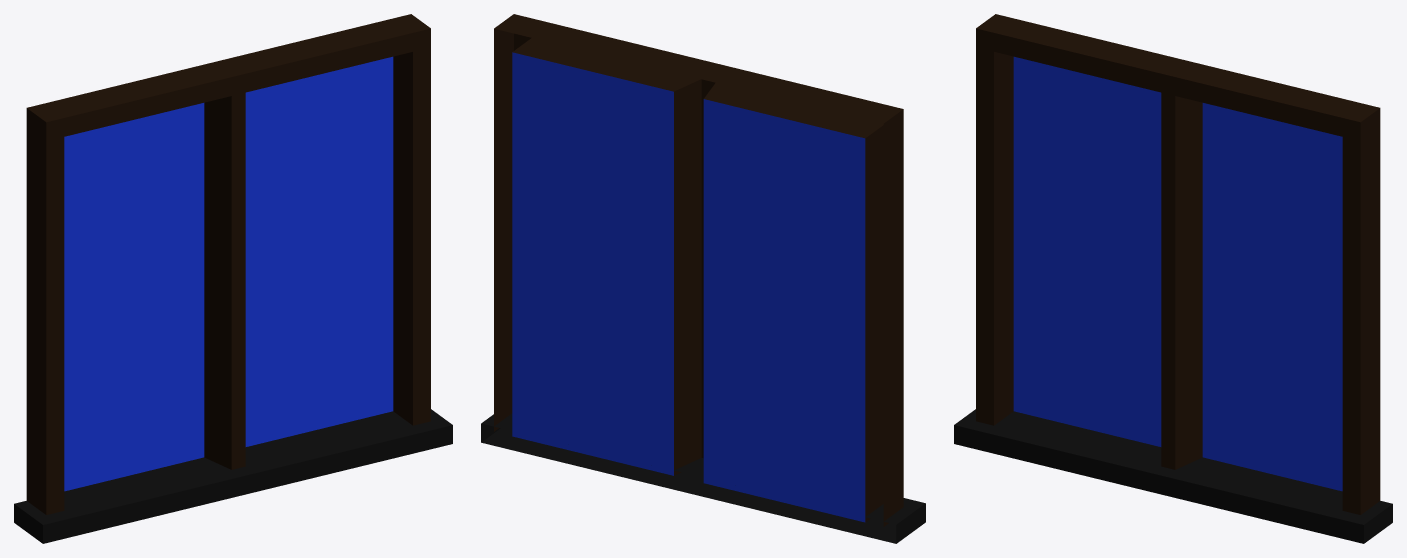
Rendered from Finestra4.FBX.
The picture shows the model from 3 angles, left to right: view 1: azimuth 30°, elevation 25°; view 2: azimuth 150°, elevation 25°; view 3: azimuth 330°, elevation 25°; orthographic projection.
Parts seen in each view (by area): view 1: Finestra4; view 2: Finestra4; view 3: Finestra4.
Part boxes in pixels (bbox=[...]): Finestra4: bbox=[14, 14, 452, 543]; Finestra4: bbox=[481, 14, 925, 543]; Finestra4: bbox=[954, 14, 1392, 543].
Bounding box in the file's own units: 69.4 × 66.62 × 8.53.
